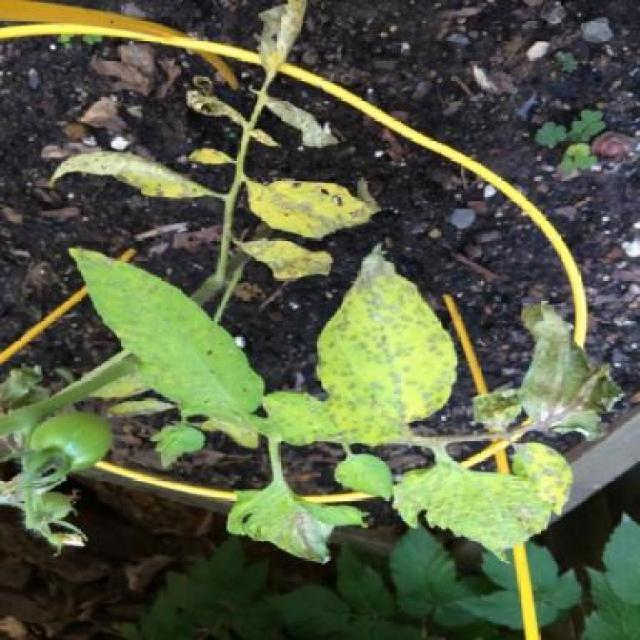Septoria leaf spot: (72, 247, 266, 447), (324, 240, 455, 463), (386, 470, 567, 578), (223, 479, 352, 595), (230, 172, 390, 236), (267, 393, 347, 458)
